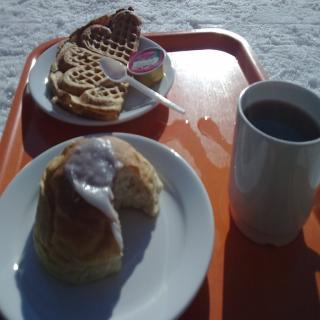Waffle: (47, 5, 142, 123)
